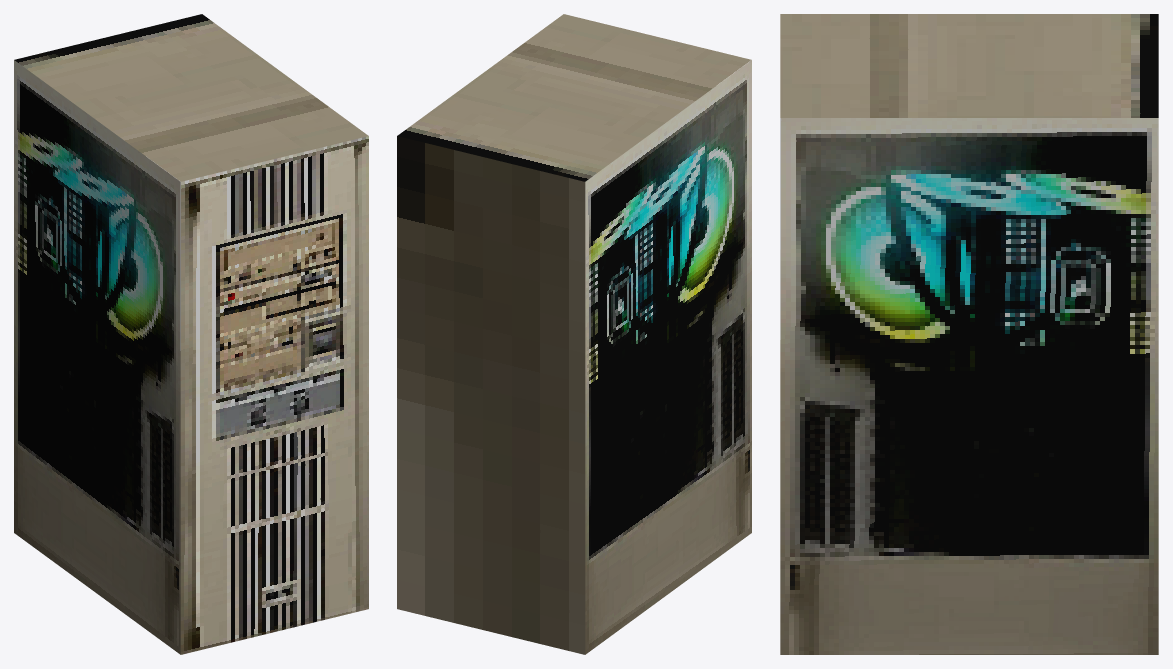
Rendered from PC_TOWER.glb.
3 renders of one model, left to right at view 1: azimuth 30°, elevation 25°; view 2: azimuth 150°, elevation 25°; view 3: azimuth 270°, elevation 25°, orthographic. The views are drawn at different scales.
Parts seen in each view (by area): view 1: Cube; view 2: Cube; view 3: Cube.
Part boxes in pixels (x1=…): Cube: x1=14, y1=14, x2=368, y2=654; Cube: x1=397, y1=14, x2=751, y2=654; Cube: x1=780, y1=14, x2=1158, y2=654.
Bounding box in the file's own units: 0.0413 × 0.0993 × 0.0634.
Materials: 1 (1 with a texture image).
